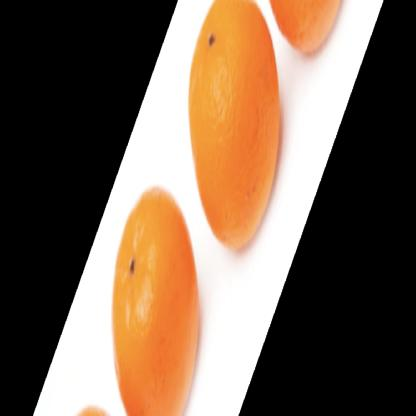fresh: (111, 1, 290, 416)
